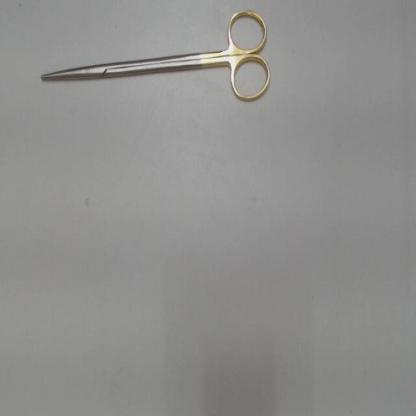7 Metzenbaum Scissors: (38, 6, 275, 110)
